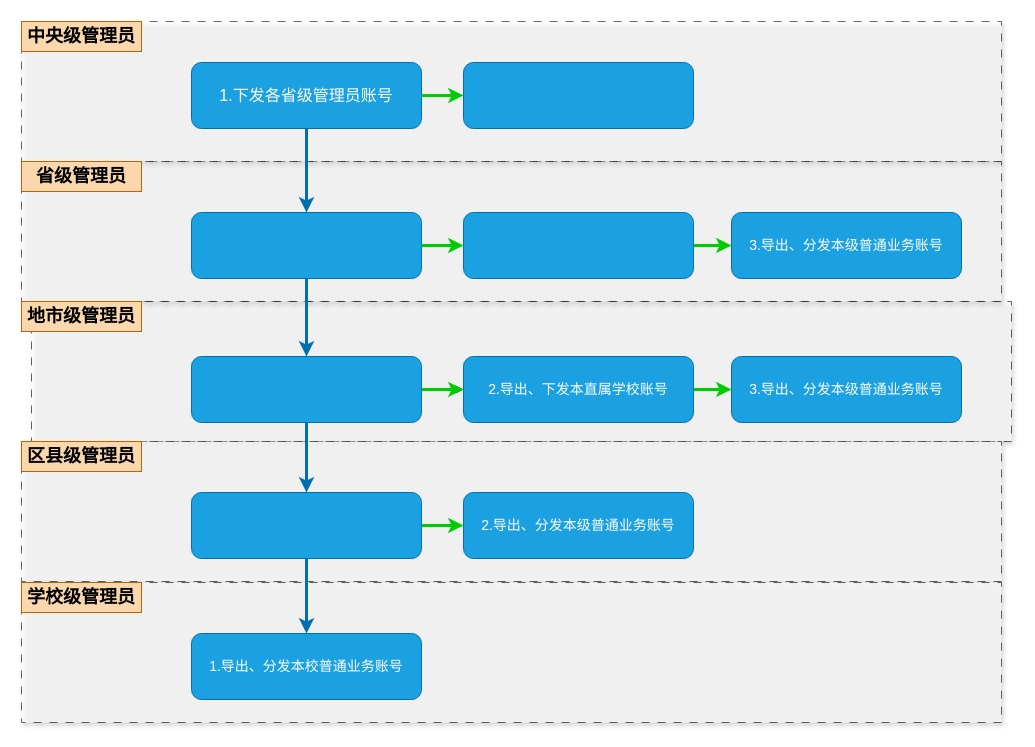
Image size: 1035x747. Some labels were removed from this diagram. The centre of each missing label's shape, as x and y in pixels:
1.导出、下发区县级管理员账号: the point at 306,389
1.导出、下发地市级管理员账号: the point at 306,245
1.导出、下发学校级管理员账号: the point at 306,525
2.下发中央直属高校账号: the point at 578,95
2.导出、下发本省属高校账号: the point at 578,245
